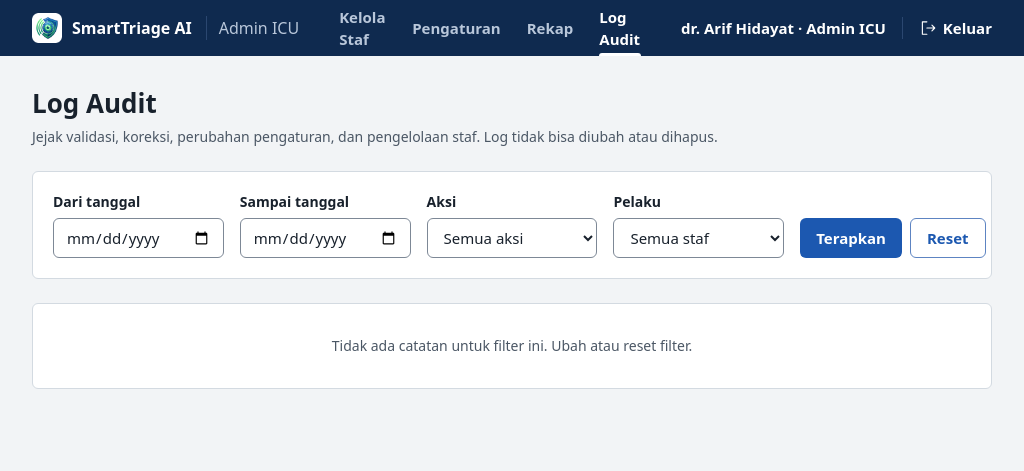
Test: Log Audit › menolak rentang terbalik dan menampilkan hasil kosong
This screenshot has width=1024, height=471.
Check: the text "Tidak ada catatan untuk filter ini. Ubah atau reset filter." is shown, box [332, 336, 692, 355]
Type "2026-10-20" into the date field labelled "Dari tanggal".
click(138, 238); type("2026-10-20")  # box [53, 218, 224, 258]
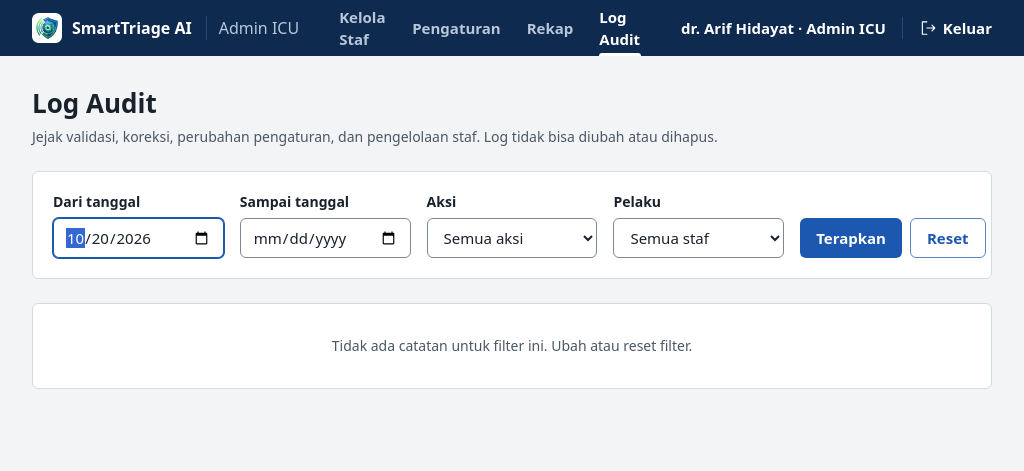
Type "2026-10-01" into the date field labelled "Sampai tanggal".
click(325, 238); type("2026-10-01")  # box [240, 218, 411, 258]
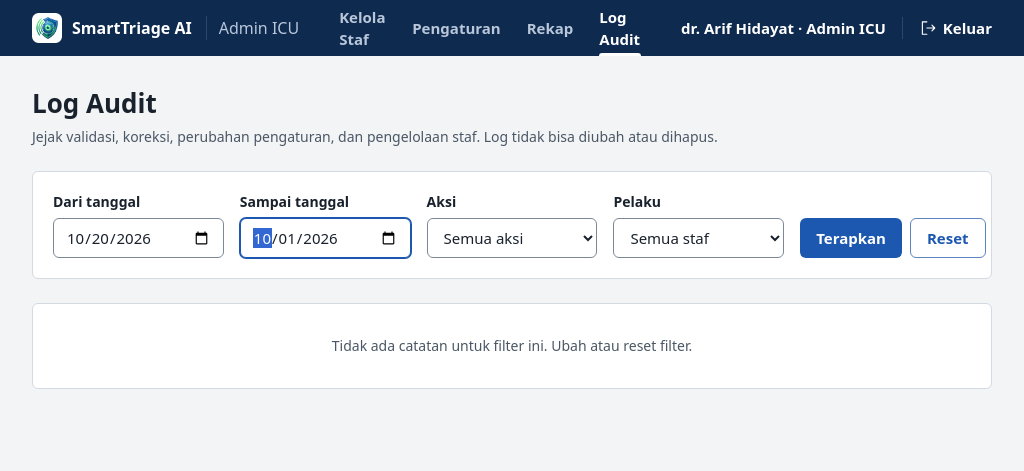
Click the button "Terapkan".
click(851, 238)  # box [800, 218, 902, 258]
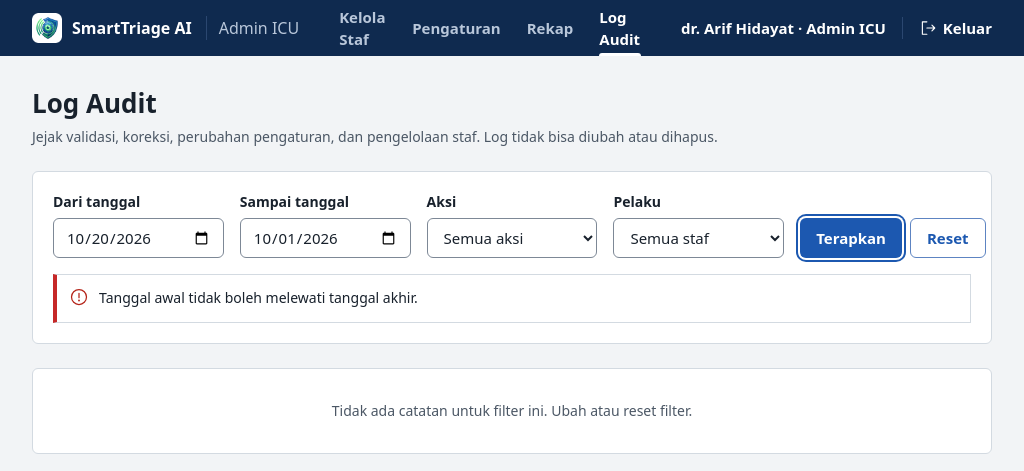
Check: the message reads "Tanggal awal tidak boleh melewati tanggal akhir.", box [99, 288, 418, 307]
